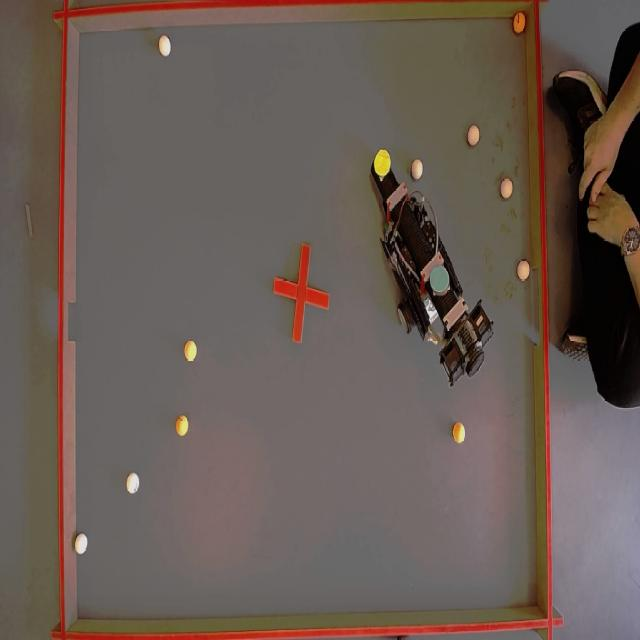orange: (174, 414, 190, 437), (452, 423, 466, 445), (185, 341, 200, 360)
robot: (370, 153, 500, 393)
robot-front: (374, 151, 391, 176), (513, 9, 526, 35)
robot-rear: (430, 261, 451, 294)
white: (76, 533, 90, 557), (158, 36, 172, 59), (126, 472, 140, 495), (500, 179, 514, 200), (411, 158, 424, 180), (468, 124, 481, 146), (516, 260, 530, 280)
